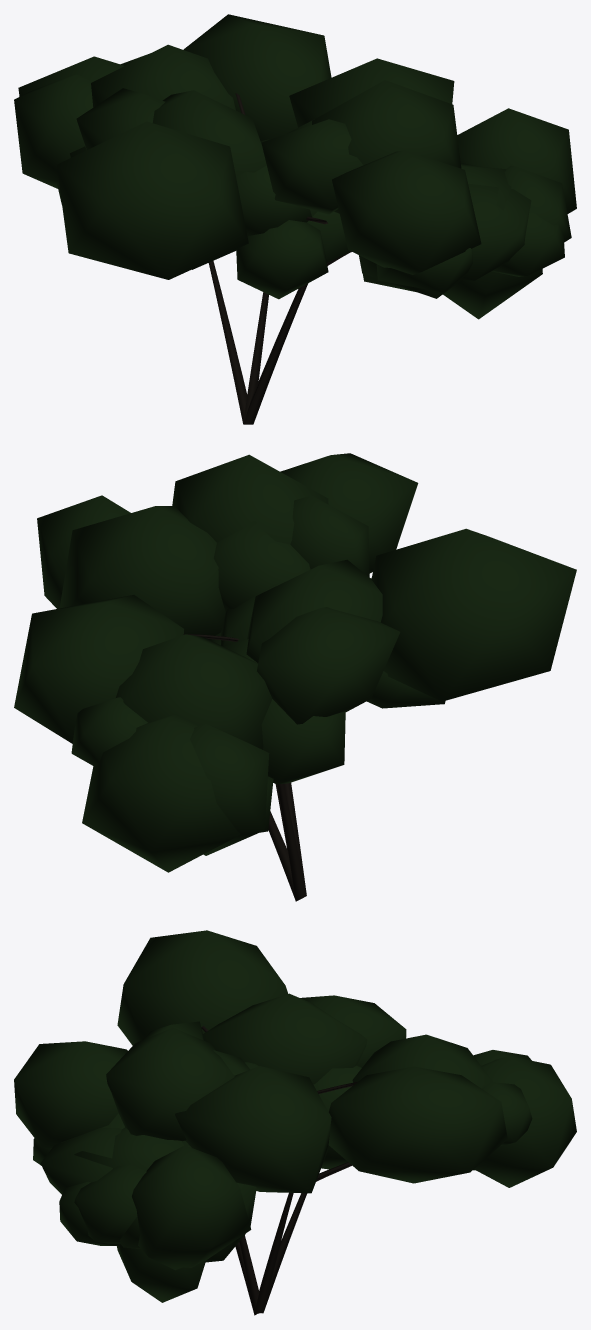
File: BUSH_1.dae
3 views of the same model, one above another, from view 1: azimuth 30°, elevation 25°; view 2: azimuth 150°, elevation 25°; view 3: azimuth 270°, elevation 25° (orthographic). The views are drawn at different scales.
Visible parts, largest first — view 1: BUSH_1; view 2: BUSH_1; view 3: BUSH_1.
Part boxes in pixels (x1,y1,x2,y2): BUSH_1: [14, 14, 576, 424]; BUSH_1: [14, 453, 576, 901]; BUSH_1: [14, 930, 576, 1315].
Bounding box in the file's own units: 1.55 × 1.69 × 1.08.
